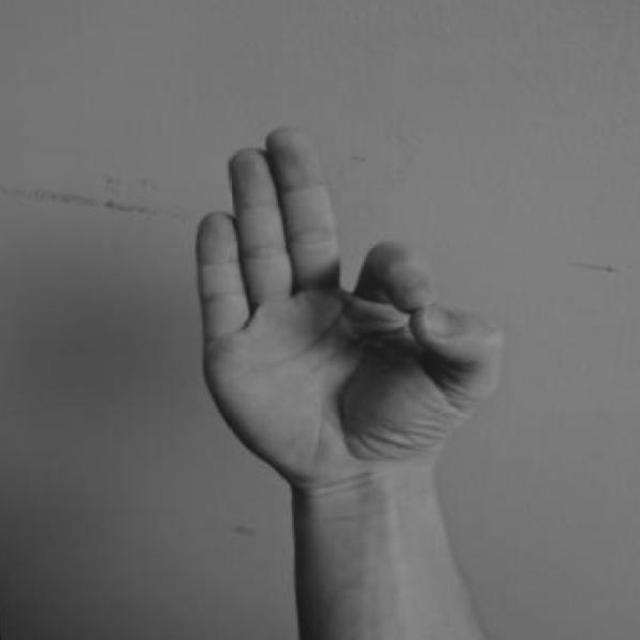F: (159, 111, 518, 549)
